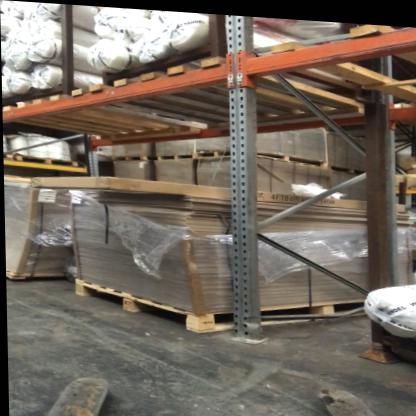vertical_damage: (226, 310, 275, 346)
